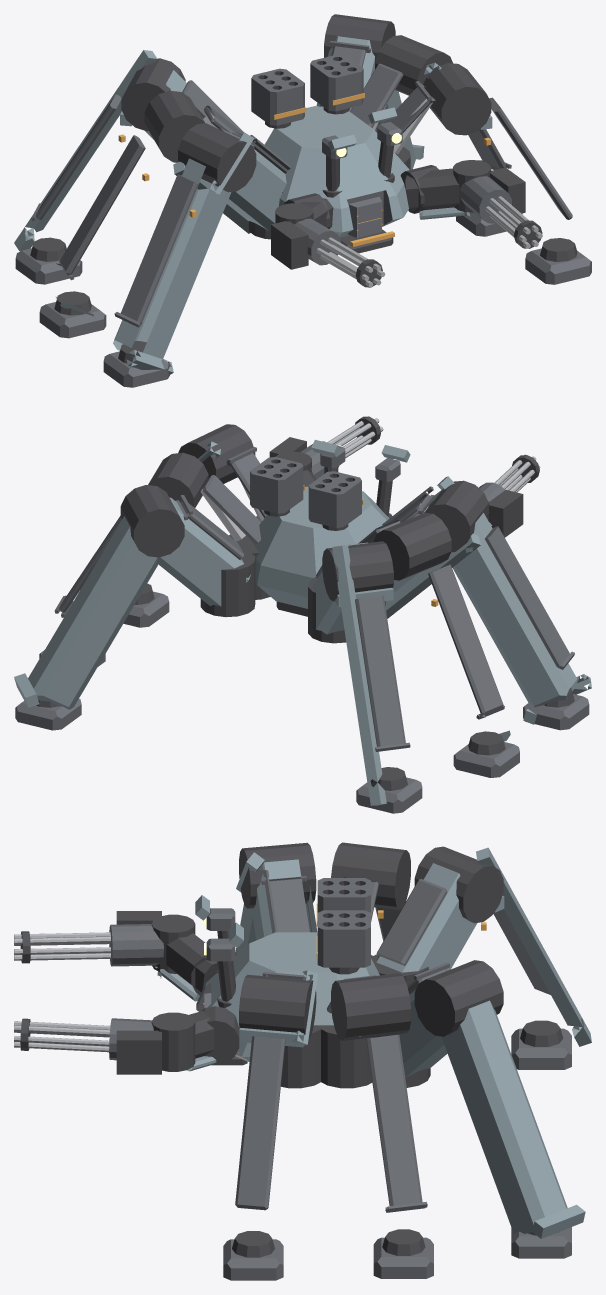
The model's file is hermit.glb.
3 renders of one model, top to bottom at view 1: azimuth 30°, elevation 25°; view 2: azimuth 150°, elevation 25°; view 3: azimuth 270°, elevation 25°, orthographic. The views are drawn at different scales.
Visible parts, largest first — view 1: carapace, tibia0-1, tibia0-1_top, femur0-1, knee01, knee0-1, tibia1-1_top, knee1-1, vmissile-1, vmissile1, tibia2-1, knee11 (+29 smaller); view 2: tibia21, tibia0-1, carapace, tibia2-1_top, tibia2-1, tibia1-1_top, femur21, knee21, knee1-1, tibia0-1_top, knee2-1, vmissile-1 (+21 smaller); view 3: tibia21, tibia11_top, tibia01_top, carapace, knee11, knee21, knee01, femur2-1, knee1-1, knee2-1, tibia2-1, vmissile1 (+33 smaller).
Boxes of the visible parts, x1,y1,x2,y2 form: carapace: [264, 106, 409, 237]; tibia0-1: [113, 158, 231, 374]; tibia0-1_top: [114, 174, 198, 327]; femur0-1: [173, 128, 286, 233]; knee01: [423, 63, 491, 135]; knee0-1: [178, 123, 256, 192]; tibia1-1_top: [56, 135, 145, 280]; knee1-1: [144, 90, 204, 162]; vmissile-1: [251, 68, 304, 125]; vmissile1: [310, 54, 363, 111]; tibia2-1: [14, 50, 157, 250]; knee11: [375, 35, 453, 95]; tibia21: [14, 516, 158, 709]; tibia0-1: [452, 513, 591, 724]; carapace: [251, 486, 389, 608]; tibia2-1_top: [355, 595, 410, 751]; tibia2-1: [332, 545, 386, 805]; tibia1-1_top: [428, 564, 504, 719]; femur21: [157, 497, 250, 606]; knee21: [120, 485, 184, 557]; knee1-1: [373, 512, 451, 580]; tibia0-1_top: [484, 526, 574, 669]; knee2-1: [322, 541, 393, 601]; vmissile-1: [308, 471, 361, 527]; tibia21: [441, 1000, 585, 1238]; tibia11_top: [366, 1034, 427, 1212]; tibia01_top: [235, 1036, 285, 1210]; carapace: [196, 932, 379, 1062]; knee11: [331, 973, 410, 1040]; knee21: [414, 960, 503, 1036]; knee01: [239, 974, 316, 1039]; femur2-1: [376, 863, 504, 972]; knee1-1: [331, 842, 410, 910]; knee2-1: [414, 846, 503, 923]; tibia2-1: [476, 847, 591, 1046]; vmissile1: [317, 910, 370, 967].
Bounding box in the file's own units: 32.15 × 14.64 × 30.45.
